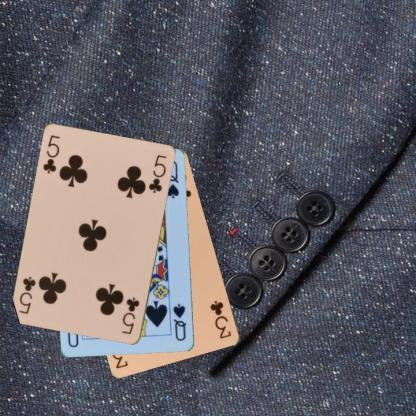3c: (207, 298, 233, 340)
5c: (40, 132, 62, 175), (119, 294, 141, 336)
Qs: (171, 301, 188, 343)
